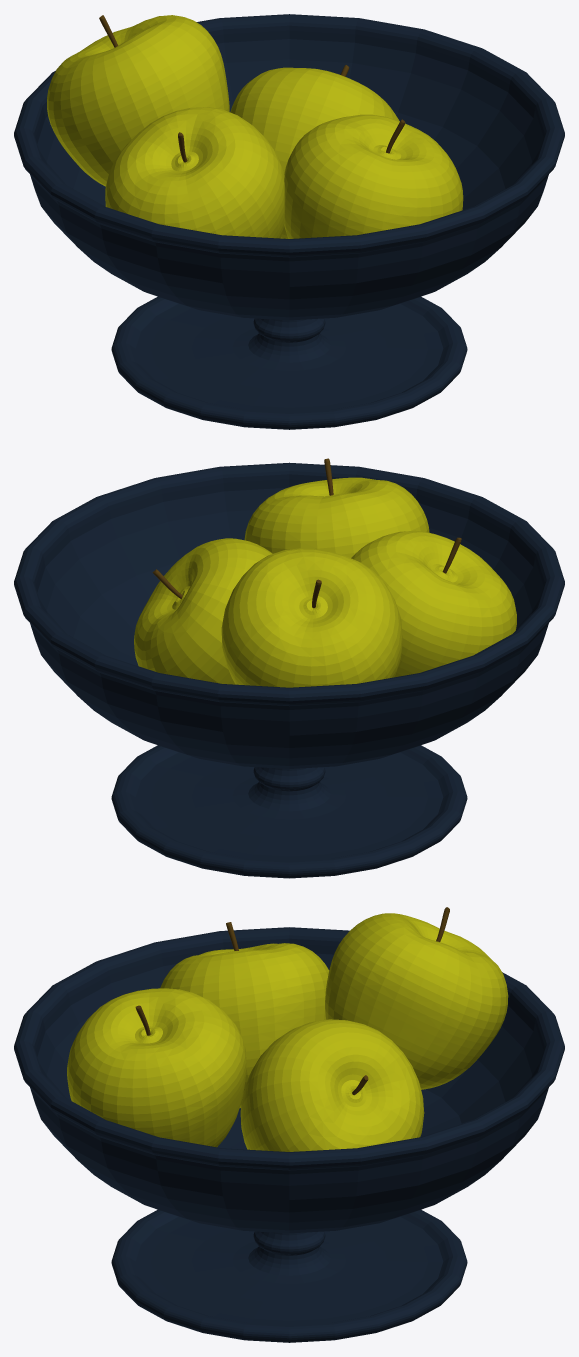
Rendered from apple.obj.
The picture shows the model from 3 angles, top to bottom: view 1: azimuth 30°, elevation 25°; view 2: azimuth 150°, elevation 25°; view 3: azimuth 270°, elevation 25°; orthographic projection.
Visible parts, largest first — view 1: jar_Plane, apple2_Tube.002, apple2.003_Tube.005, apple2.001_Tube.001, apple2.002_Tube.004; view 2: jar_Plane, apple2.003_Tube.005, apple2_Tube.002, apple2.002_Tube.004, apple2.001_Tube.001; view 3: jar_Plane, apple2.001_Tube.001, apple2.003_Tube.005, apple2.002_Tube.004, apple2_Tube.002.
Part boxes in pixels (bbox=[...]): jar_Plane: bbox=[14, 14, 564, 429]; apple2_Tube.002: bbox=[105, 107, 284, 238]; apple2.003_Tube.005: bbox=[47, 15, 229, 186]; apple2.001_Tube.001: bbox=[284, 114, 463, 238]; apple2.002_Tube.004: bbox=[230, 65, 399, 238]; jar_Plane: bbox=[14, 462, 564, 878]; apple2.003_Tube.005: bbox=[221, 548, 402, 687]; apple2_Tube.002: bbox=[351, 530, 516, 677]; apple2.002_Tube.004: bbox=[134, 538, 272, 684]; apple2.001_Tube.001: bbox=[244, 458, 429, 557]; jar_Plane: bbox=[14, 927, 564, 1342]; apple2.001_Tube.001: bbox=[67, 988, 246, 1147]; apple2.003_Tube.005: bbox=[325, 907, 508, 1089]; apple2.002_Tube.004: bbox=[240, 1019, 424, 1151]; apple2_Tube.002: bbox=[160, 922, 329, 1107].
Size of the model in its own units: 0.2339 by 0.1456 by 0.2339.
